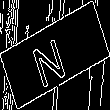N_NW: (35, 24, 75, 86)
